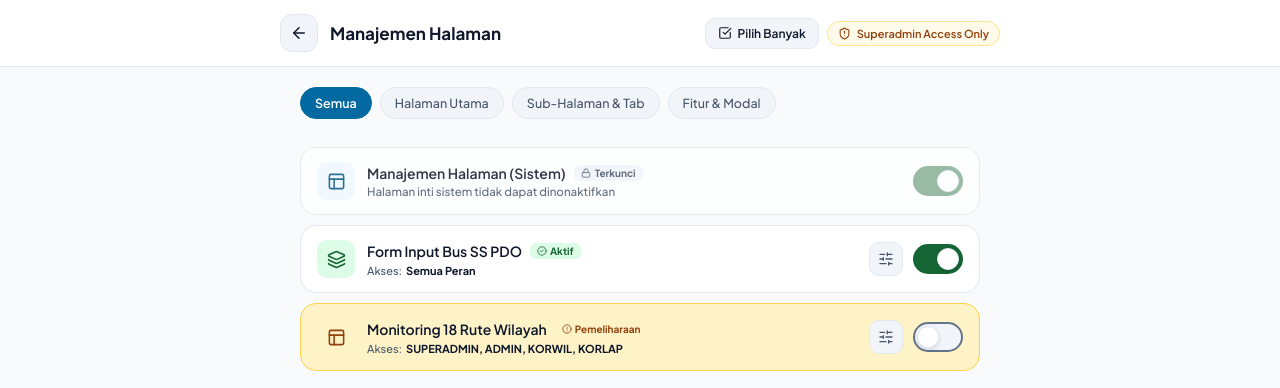
it: PageManagementPage › memfilter kategori halaman saat tab filter diklik
The image size is (1280, 388).
Click the button "Sub-Halaman & Tab": click(586, 103) [512, 87, 660, 119]
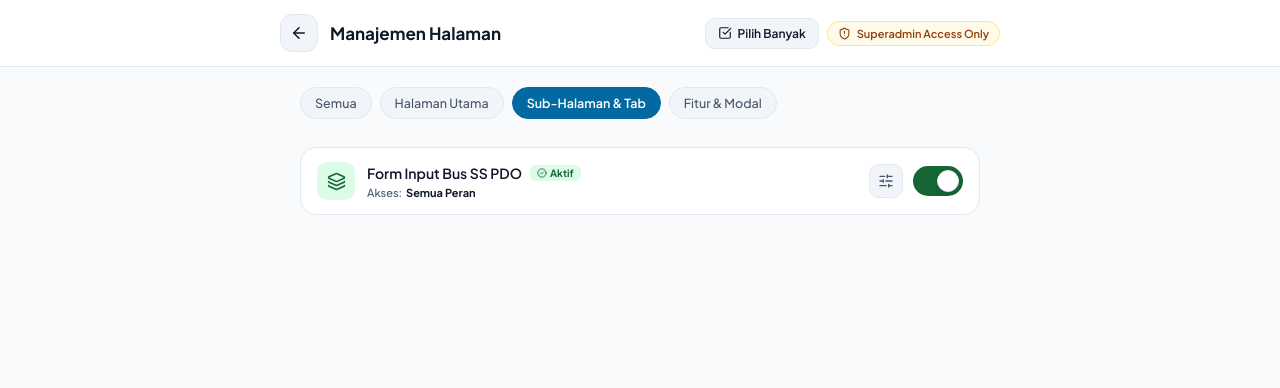
Expected: the text "Form Input Bus SS PDO" is shown, [367, 164, 522, 182]
Expected: the text "Monitoring 18 Rute Wilayah" is gone
